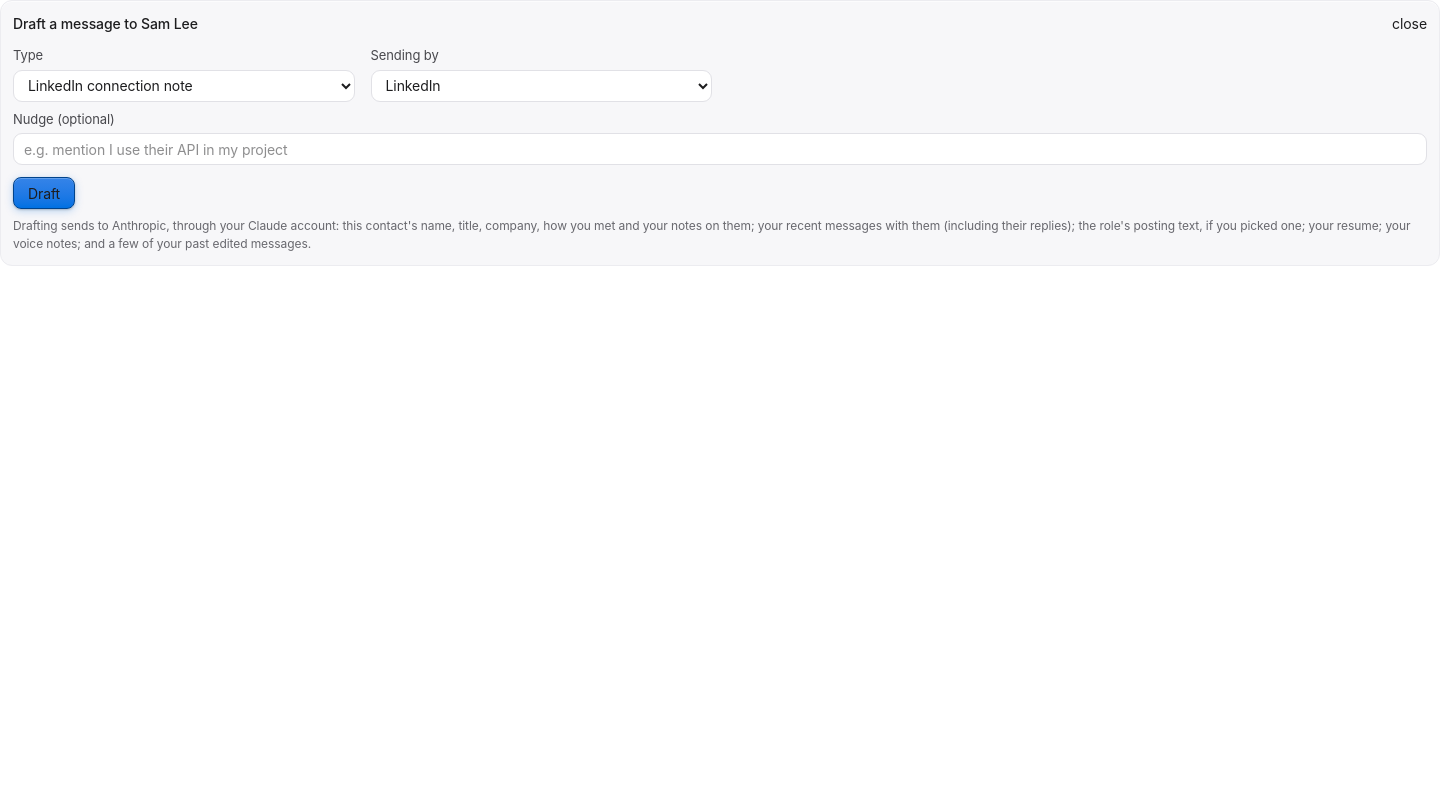
Scenario: DraftPanel › a LinkedIn note is Copy-only, LinkedIn-only, with a live character count
Click the button "Draft" at [44, 193], box [13,177,75,209]
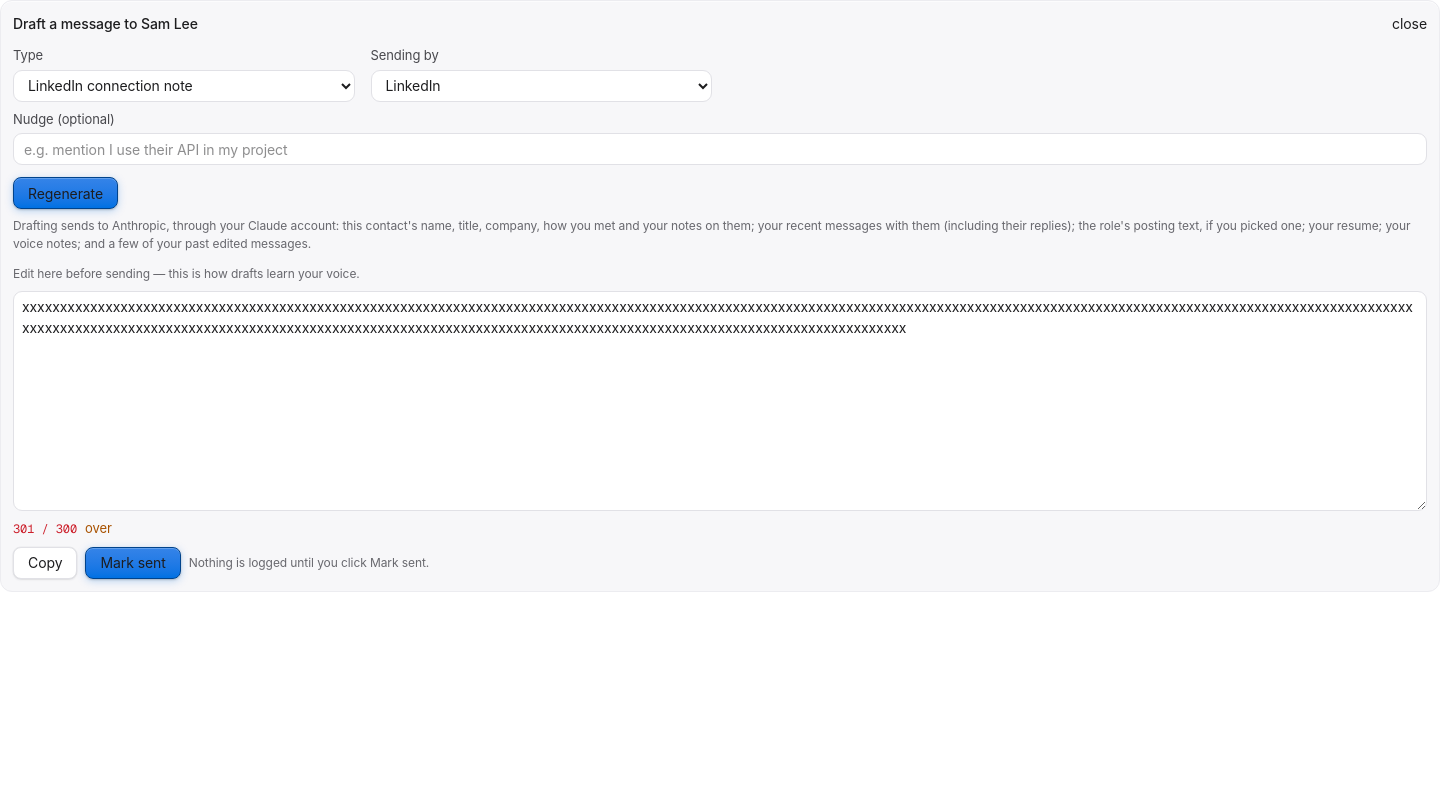
Now the text with test id "length" reads "301 / 300", box [13,521,77,537]
Now the button "Copy" is shown, box [13,546,78,578]
